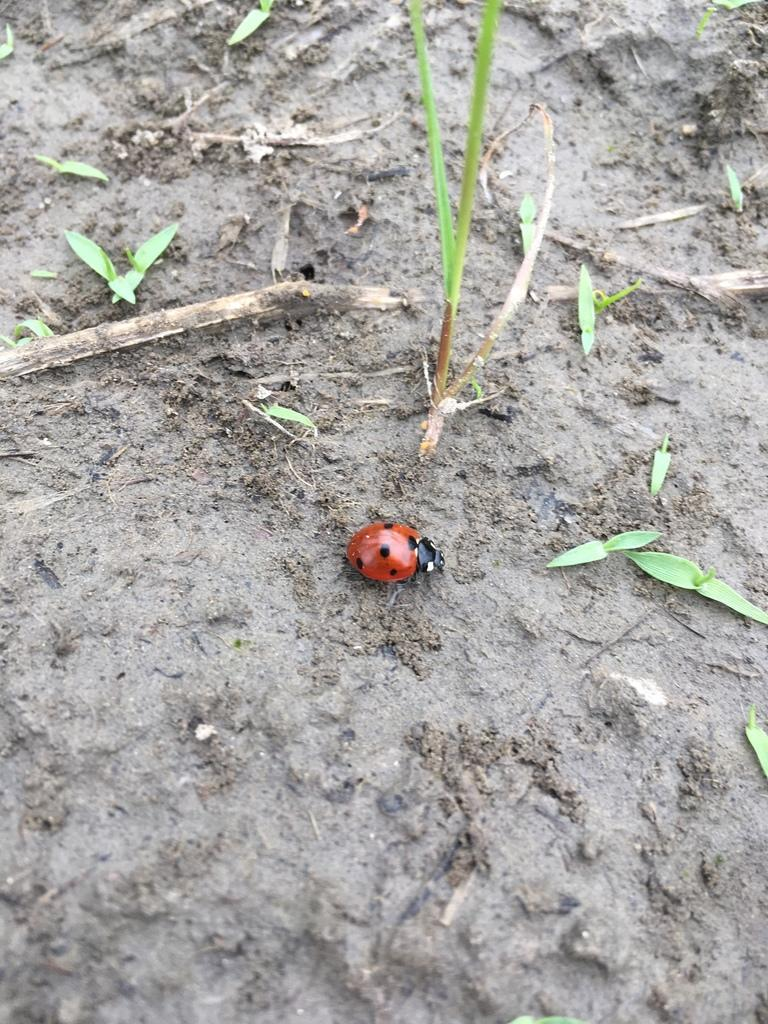ladybug: (347, 521, 448, 592)
